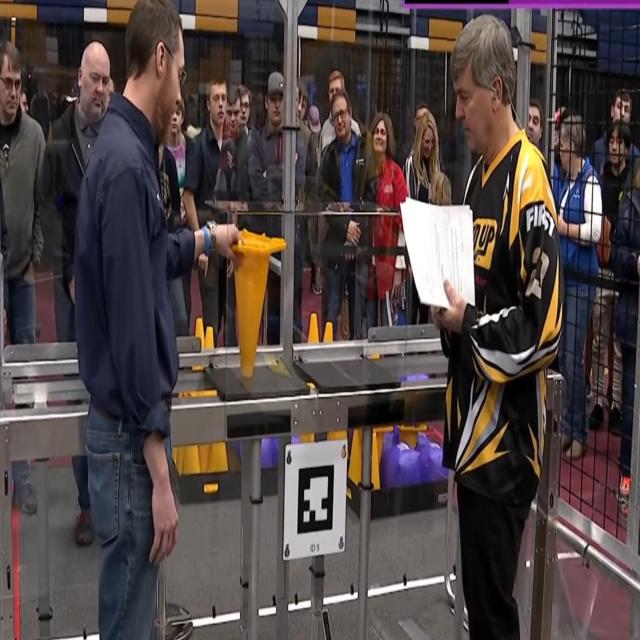frc_cone: (227, 228, 287, 385), (347, 428, 364, 486), (396, 419, 424, 451), (369, 430, 382, 490), (206, 444, 228, 476), (303, 310, 322, 345), (184, 440, 200, 473), (197, 441, 209, 474), (192, 314, 205, 338), (203, 324, 216, 348), (321, 321, 334, 344), (174, 443, 184, 470)
frc_cube: (385, 441, 420, 489), (419, 440, 448, 484), (260, 436, 276, 465)
